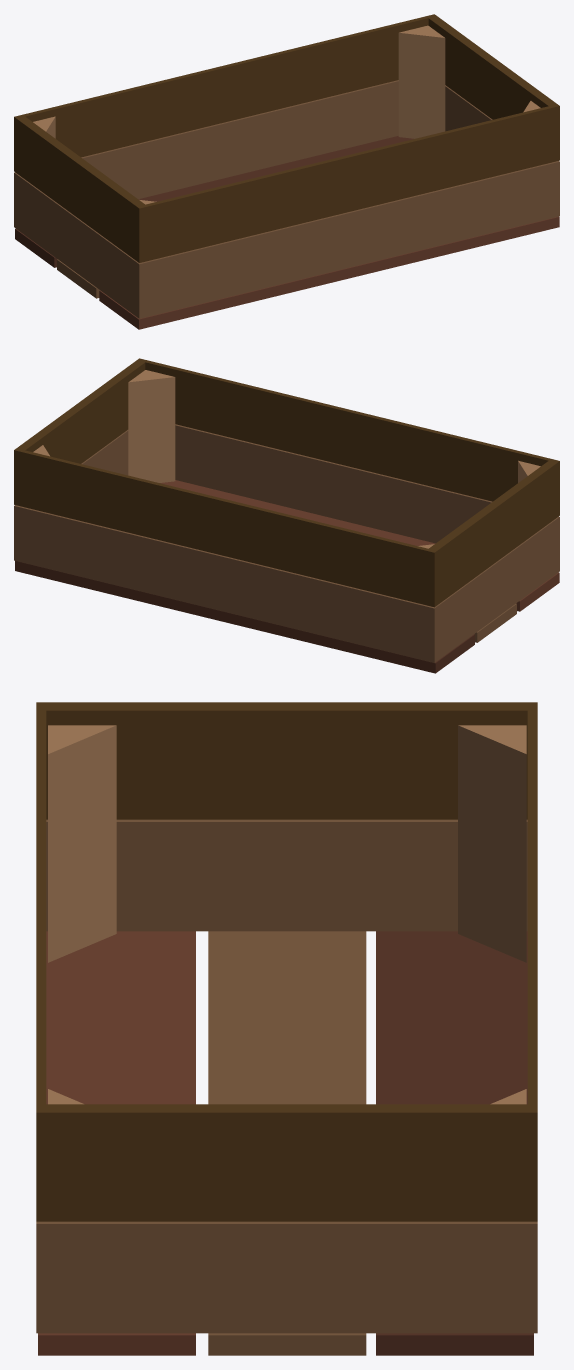
Rendered from VegetablesBox_01.glb.
3 renders of one model, top to bottom at view 1: azimuth 30°, elevation 25°; view 2: azimuth 150°, elevation 25°; view 3: azimuth 270°, elevation 25°, orthographic. The views are drawn at different scales.
Parts seen in each view (by area): view 1: VegetablesBox_01; view 2: VegetablesBox_01; view 3: VegetablesBox_01.
Boxes of the visible parts, box(x1,y1,x2,y2) form: VegetablesBox_01: box(14, 14, 559, 329); VegetablesBox_01: box(14, 358, 559, 673); VegetablesBox_01: box(36, 702, 537, 1355).
Size of what is drawn, in the model's own units: 1.2 by 0.3304 by 0.6179.
Materials: 1 (1 with a texture image).
